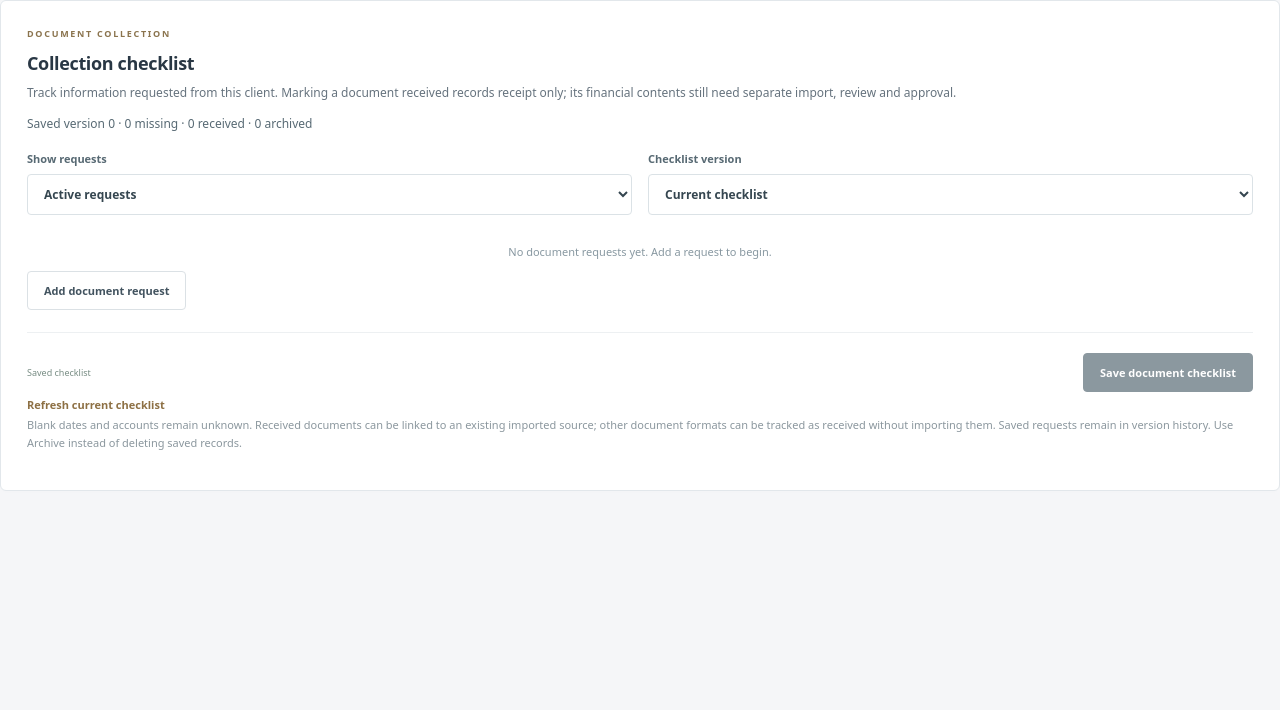
Test case: creates explicit missing requests, submits exact scoped input and preserves unknown dates
Expected: the text "No document requests yet. Add a request to begin." is shown, 508,244 -> 772,259
Click the button "Add document request": (107, 290) 27,270 -> 186,310
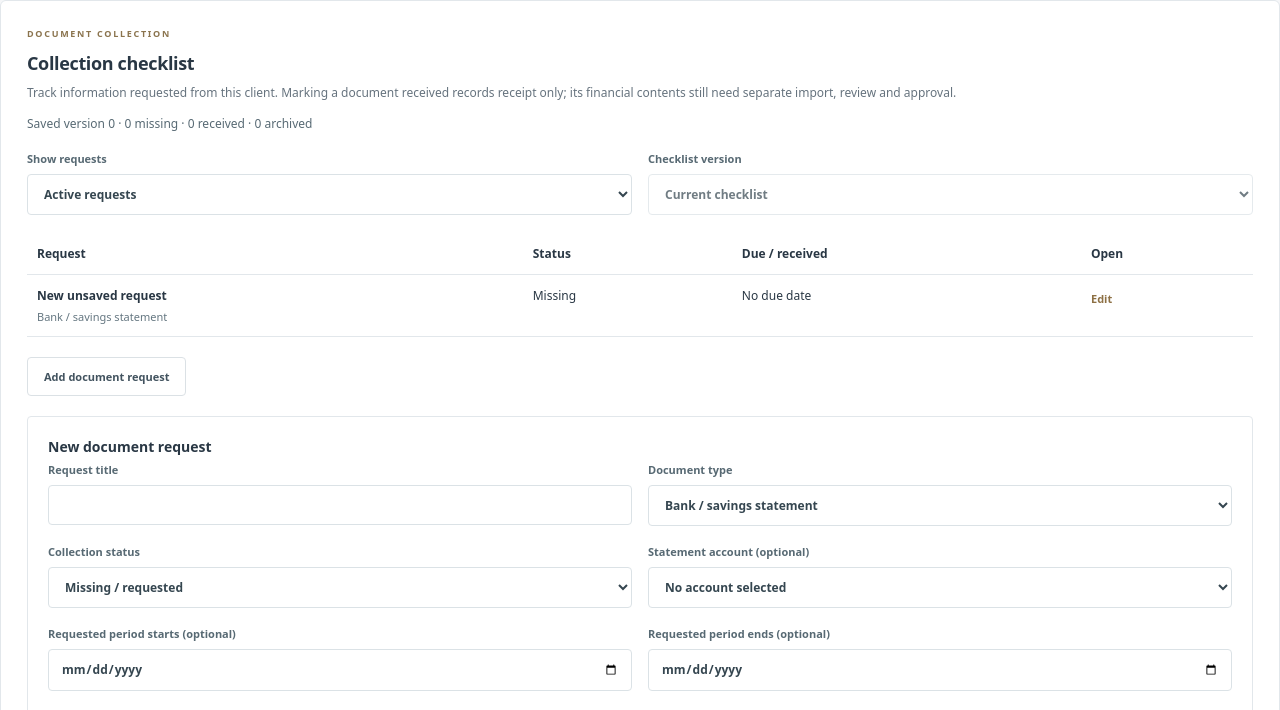
In the field labelled "Request title": (340, 505) 48,485 -> 632,525, type "Fictional September statement"
(page scrolled)
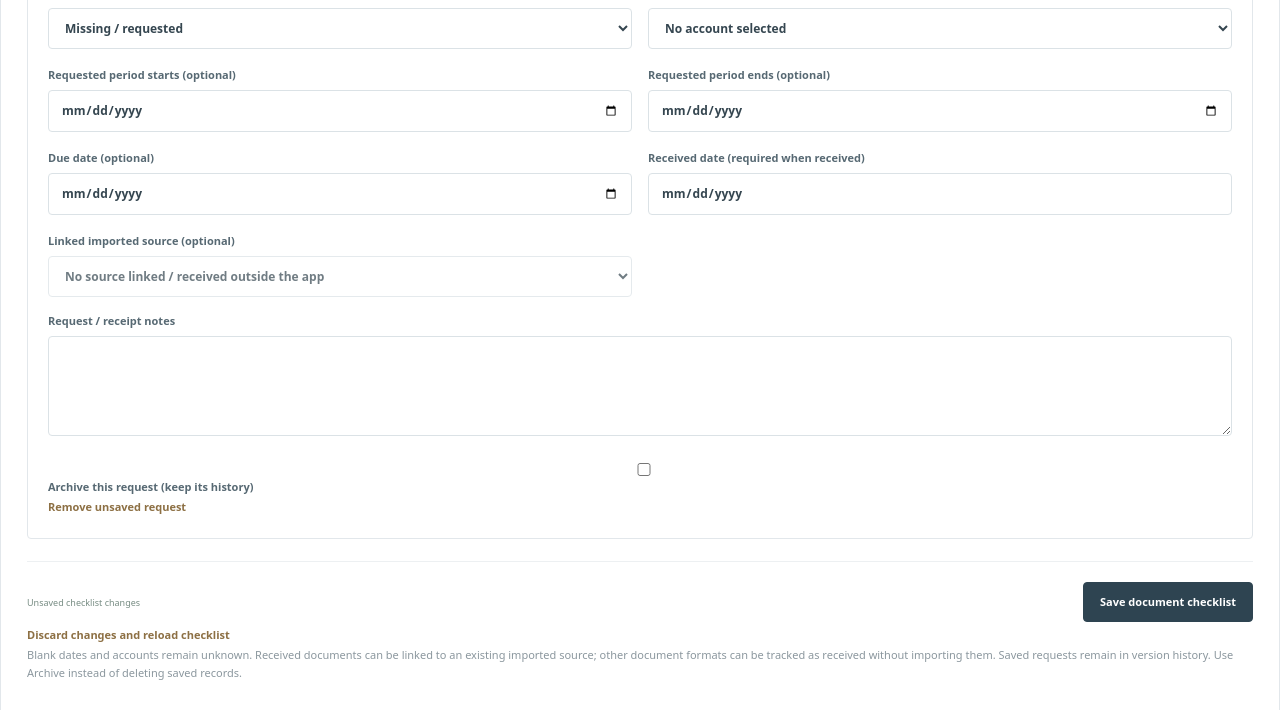
Click the button "Save document checklist": (1168, 602) 1083,582 -> 1253,622
(page scrolled)
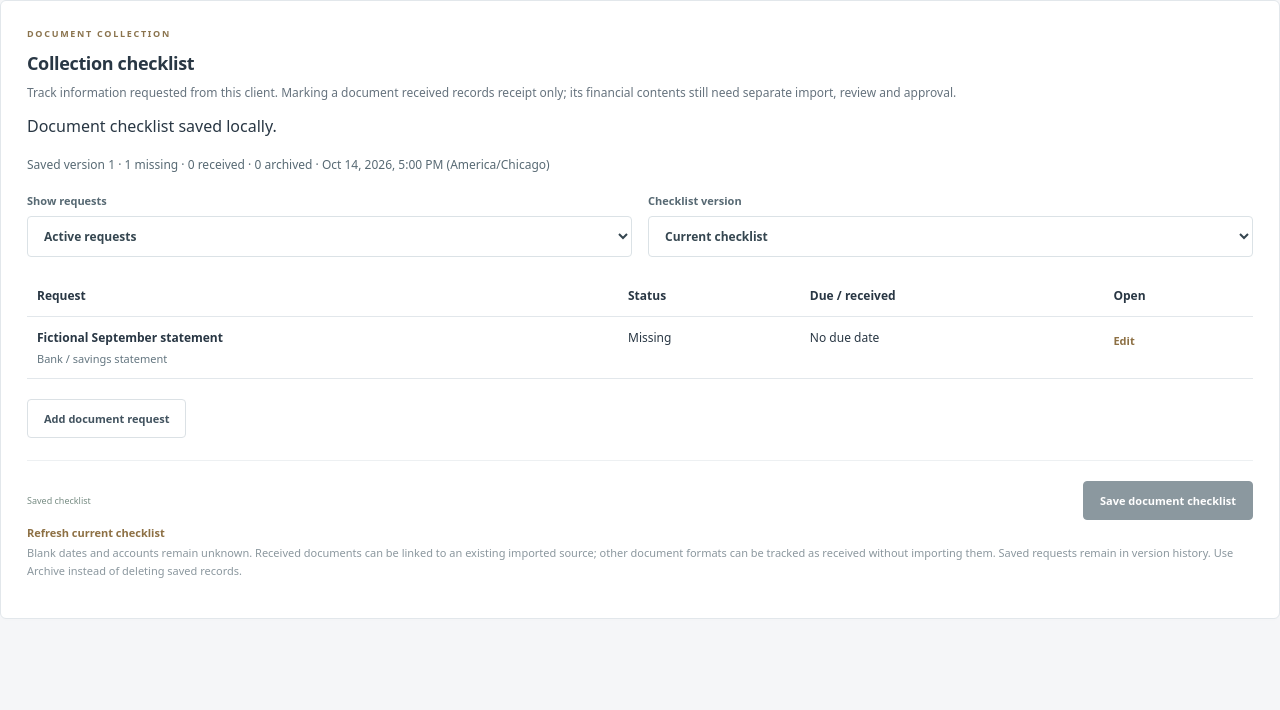
Expected: the text "Document checklist saved locally." is shown, 27,115 -> 277,137
Expected: the text "1 missing" is shown, 27,156 -> 550,173
